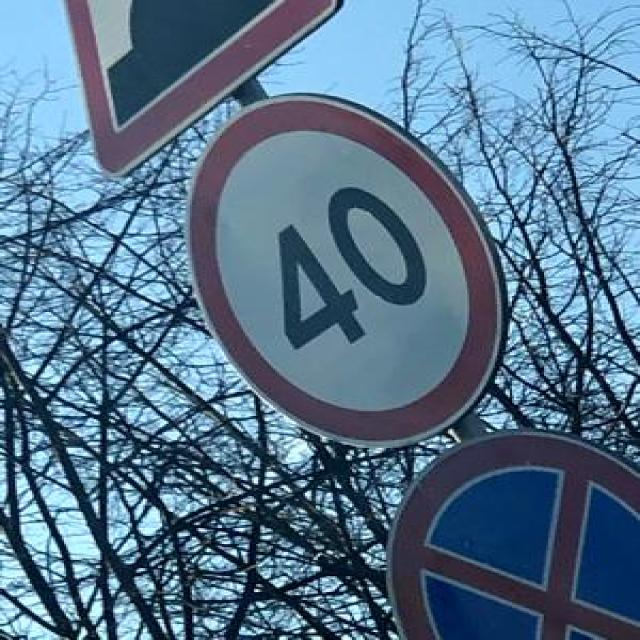speed limit 40: (186, 94, 504, 448)
